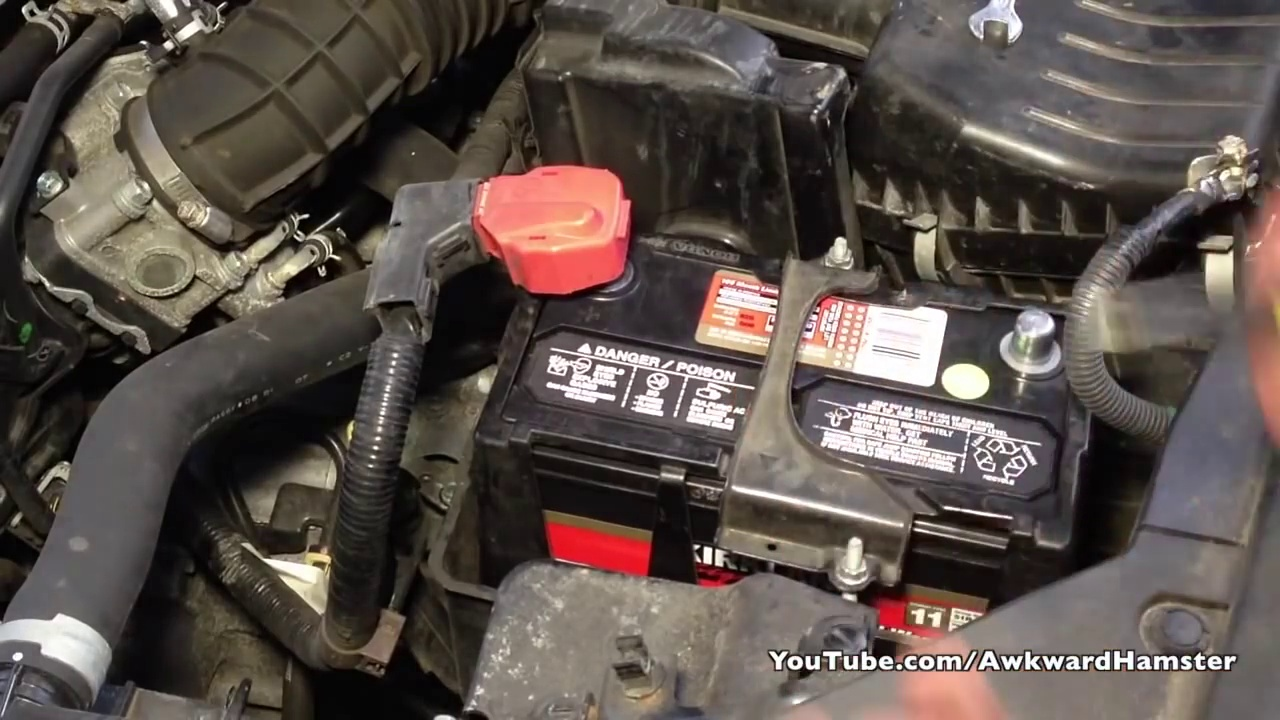battery: (475, 205, 1080, 543)
neg_disconnected: (959, 280, 1095, 399)
pos_connected: (409, 148, 651, 307)
